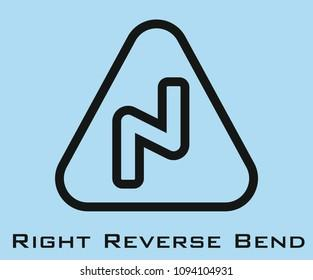Right Reverse Bend: (26, 12, 279, 218)
